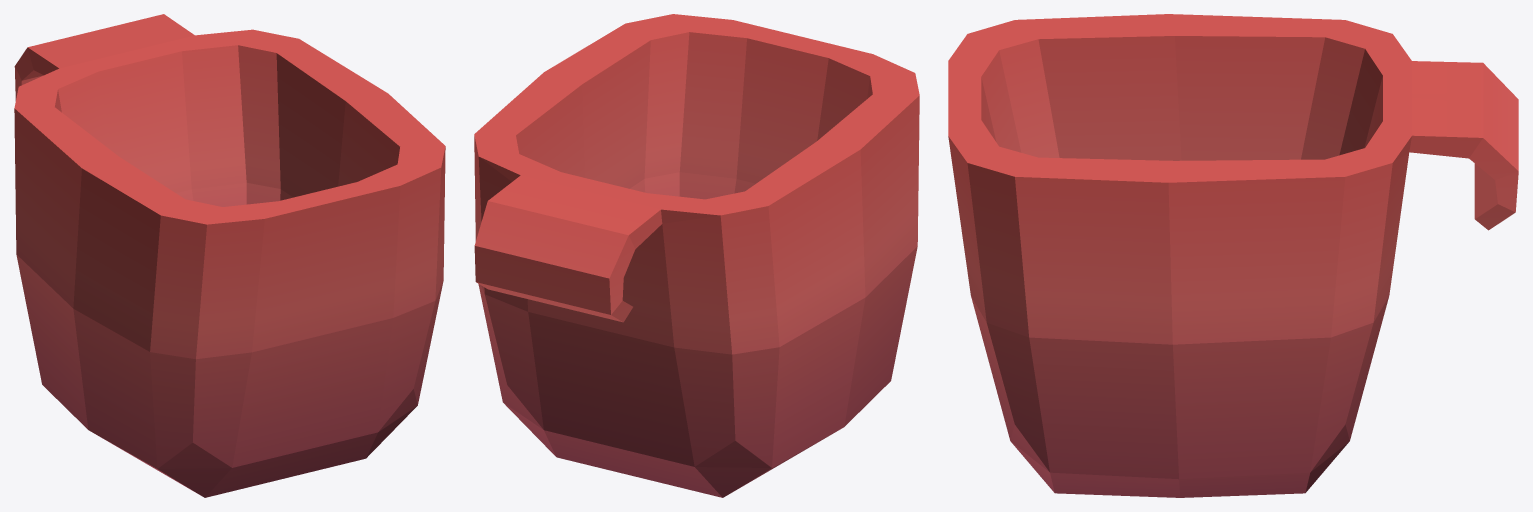
The model's file is PlantPot_37.fbx.
3 views of the same model, side by side, from view 1: azimuth 30°, elevation 25°; view 2: azimuth 150°, elevation 25°; view 3: azimuth 270°, elevation 25° (orthographic). The views are drawn at different scales.
Parts seen in each view (by area): view 1: PlantPot_37; view 2: PlantPot_37; view 3: PlantPot_37.
Boxes of the visible parts, box(x1,y1,x2,y2) form: PlantPot_37: box(14, 14, 445, 497); PlantPot_37: box(474, 14, 919, 497); PlantPot_37: box(948, 14, 1518, 497).
Size of the model in its own units: 23.12 by 21.47 by 31.66.
